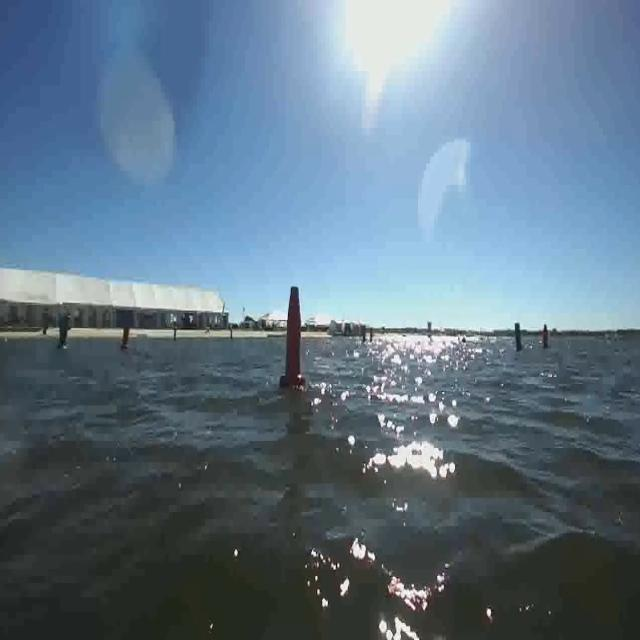green-column-buoy: (56, 314, 73, 353), (512, 323, 522, 353)
red-column-buoy: (280, 284, 306, 391), (119, 324, 132, 354), (540, 323, 549, 349)
